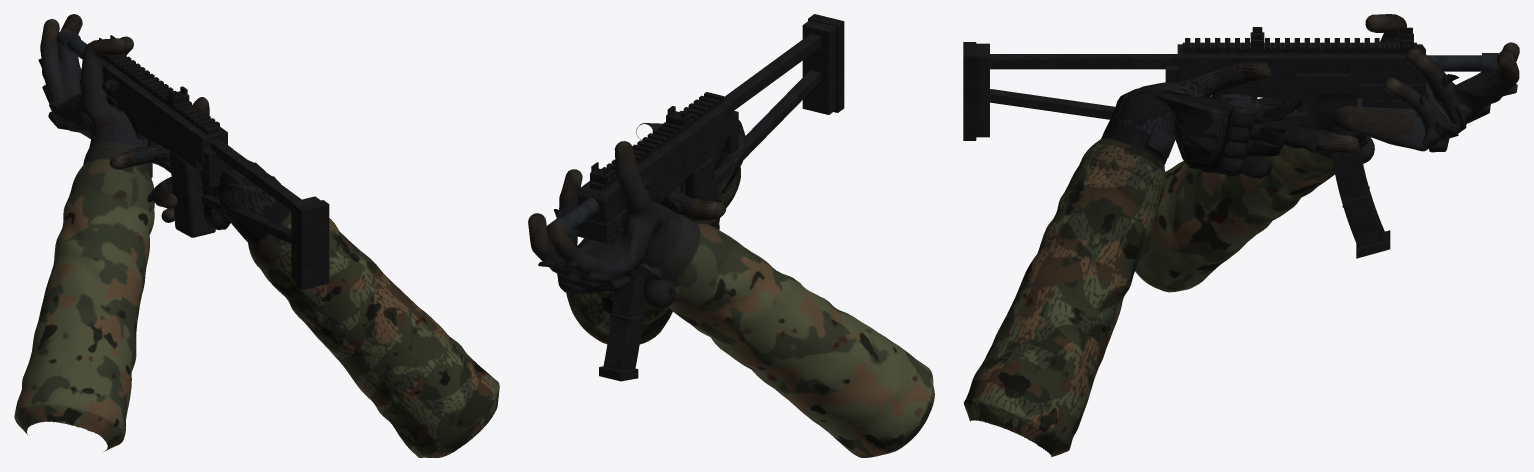
File: skorpion.gltf
The picture shows the model from 3 angles, left to right: view 1: azimuth 30°, elevation 25°; view 2: azimuth 150°, elevation 25°; view 3: azimuth 270°, elevation 25°; orthographic projection. The views are drawn at different scales.
Visible parts, largest first — view 1: Body, ArmL; view 2: ArmL, Body, Mag; view 3: Body, ArmL, Mag.
Part boxes in pixels (x1,y1,x2,y2): Body: (56,28,499,457); ArmL: (14,14,154,451); ArmL: (528,141,934,457); Body: (547,14,844,344); Mag: (599,274,645,381); Body: (963,27,1498,457); ArmL: (1135,14,1519,292); Mag: (1328,111,1390,258).
Size of the model in its own units: 0.4934 by 0.3947 by 0.5579.
2 materials, 2 textured.
